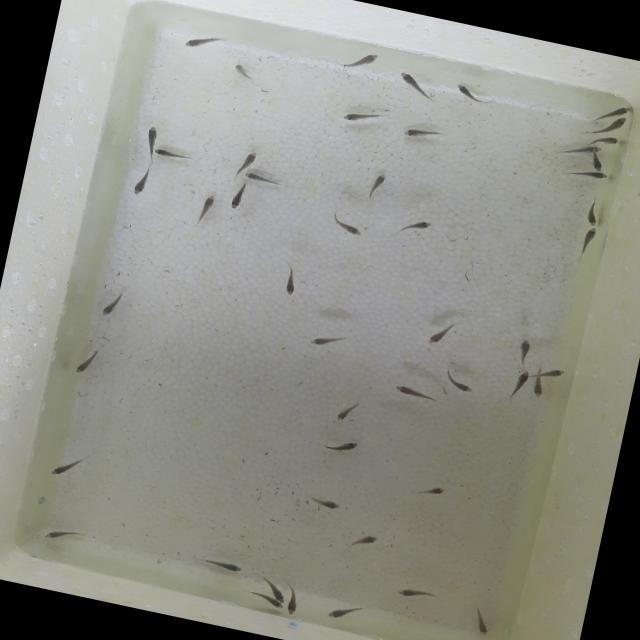fingerling: (398, 118, 452, 149), (334, 44, 381, 78), (394, 68, 440, 102), (47, 448, 91, 483), (320, 210, 369, 239), (38, 521, 88, 549), (390, 381, 443, 407), (95, 284, 128, 322), (315, 432, 363, 458), (390, 213, 434, 241), (338, 104, 385, 130), (452, 80, 494, 108), (324, 598, 366, 626), (562, 163, 610, 187), (71, 345, 104, 379), (394, 581, 442, 604), (464, 602, 494, 638), (274, 262, 304, 298), (301, 492, 350, 514), (342, 529, 381, 556), (182, 29, 224, 54), (441, 368, 478, 396), (192, 191, 218, 229), (329, 396, 361, 425), (240, 168, 286, 188), (576, 225, 602, 260), (424, 320, 454, 350), (201, 556, 246, 576), (226, 178, 252, 212), (363, 169, 389, 203), (128, 164, 154, 198), (412, 480, 452, 502), (139, 123, 163, 157), (152, 146, 194, 164), (564, 138, 601, 158), (580, 196, 603, 227), (307, 331, 342, 351), (583, 148, 607, 174), (282, 586, 302, 616), (512, 368, 533, 396), (238, 147, 260, 173), (592, 134, 624, 150), (538, 364, 568, 381), (607, 116, 631, 137), (606, 100, 634, 118), (514, 336, 533, 360), (530, 377, 548, 401), (230, 62, 252, 80), (270, 598, 285, 612), (274, 587, 286, 602)
